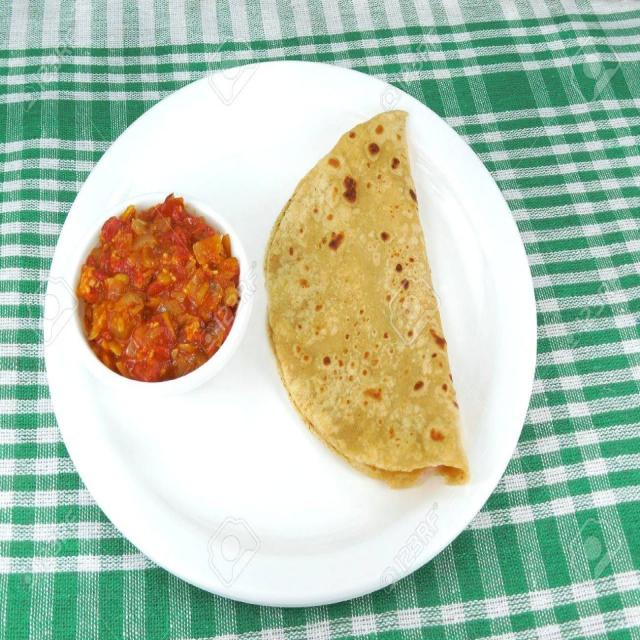chapathi: (250, 96, 503, 506)
